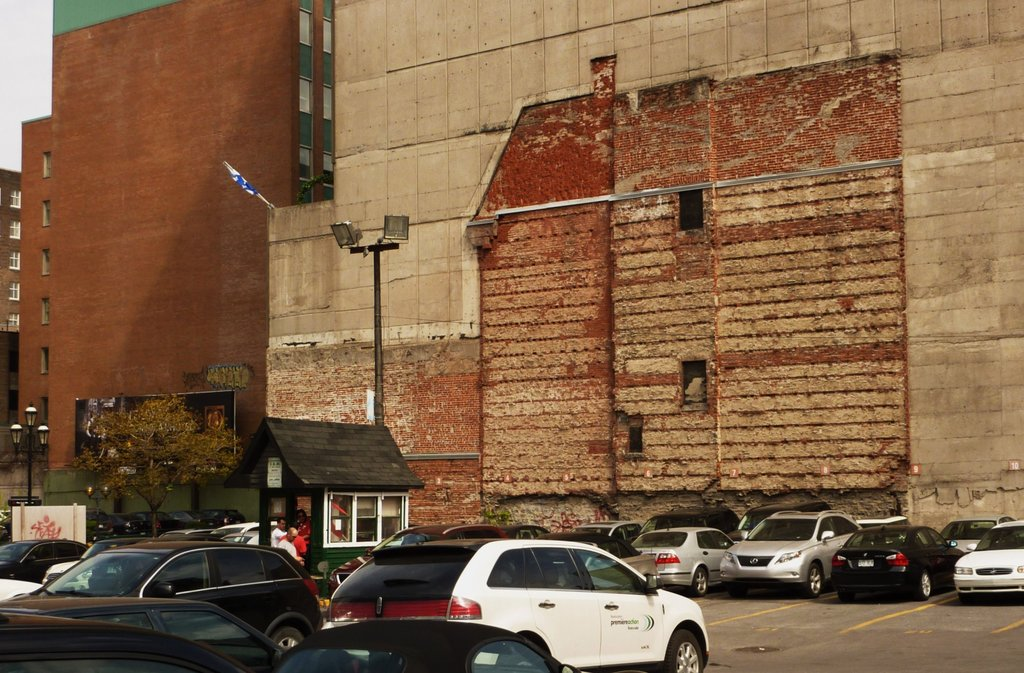Car: (573, 499, 1023, 604), (0, 541, 323, 651), (429, 544, 703, 666), (0, 599, 286, 672), (325, 517, 505, 591), (87, 507, 247, 541), (0, 538, 87, 583)
